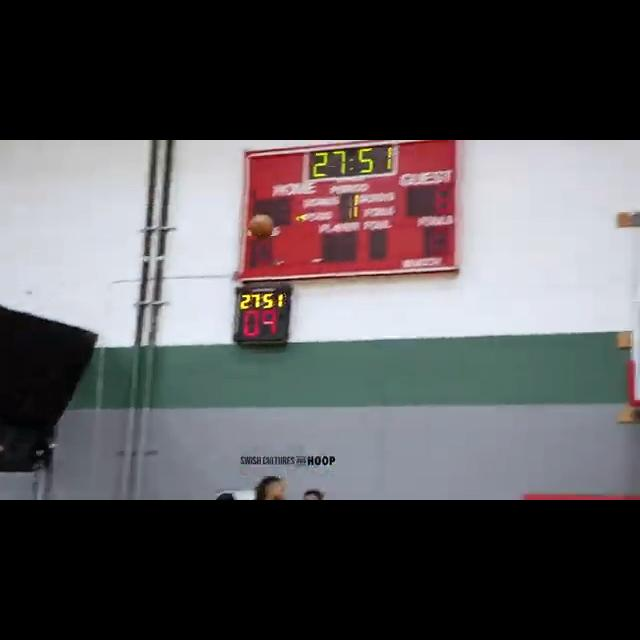basketball: (244, 212, 276, 240)
